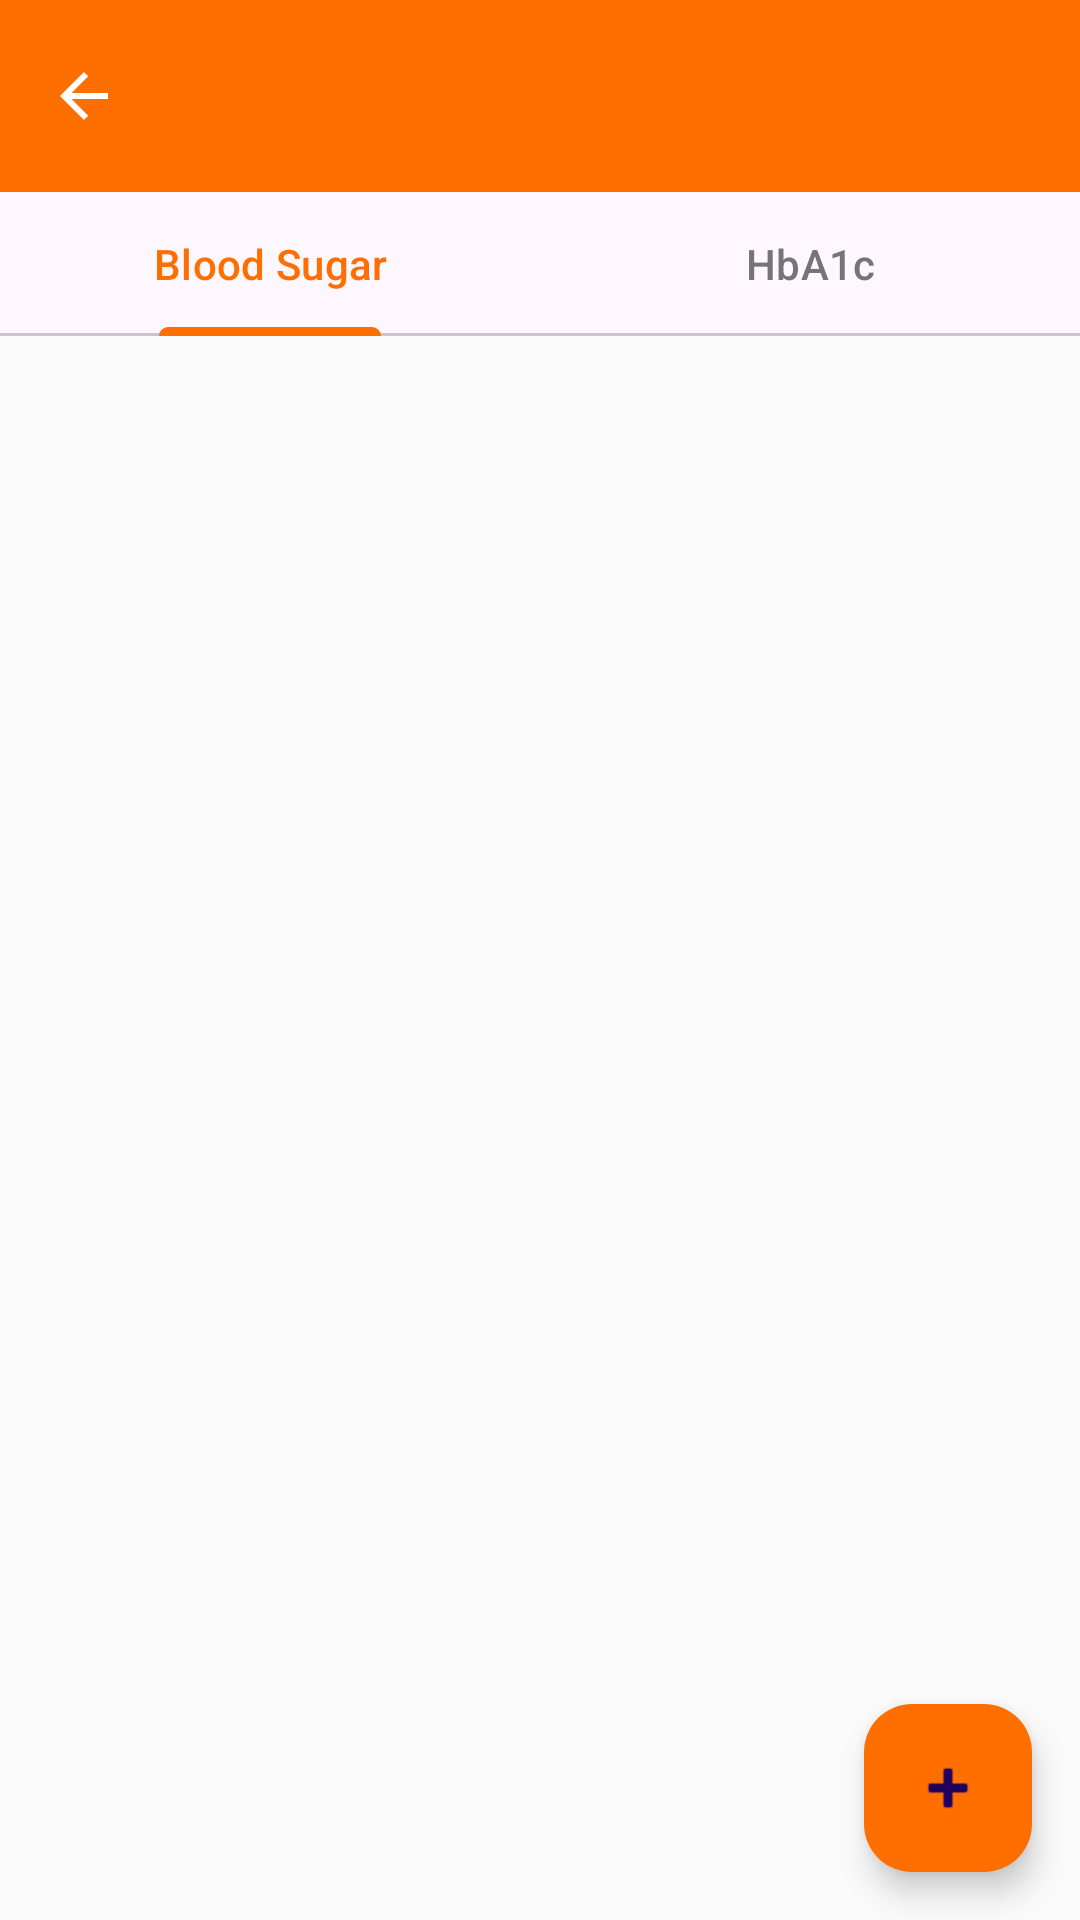

Icons on this 1080w x 1920h Android screen, each with the point to tap as (x,y):
add: (948,1788)
